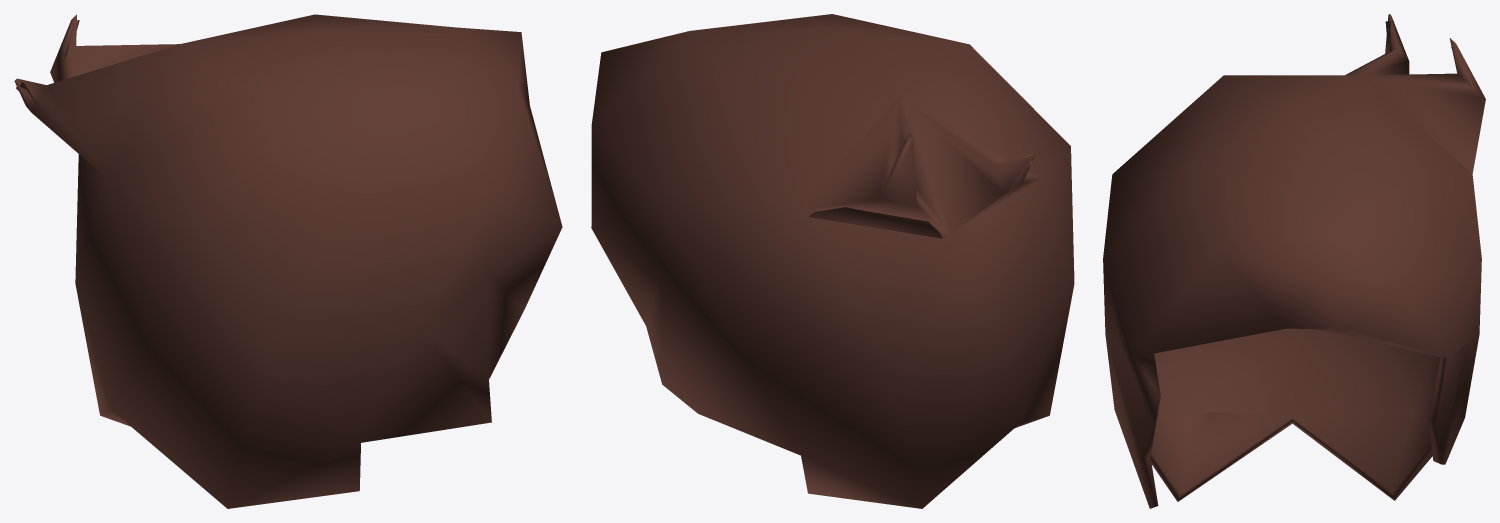
Rendered from EthanHair.glb.
3 renders of one model, left to right at view 1: azimuth 30°, elevation 25°; view 2: azimuth 150°, elevation 25°; view 3: azimuth 270°, elevation 25°, orthographic. The views are drawn at different scales.
Visible parts, largest first — view 1: EthanHair; view 2: EthanHair; view 3: EthanHair.
Boxes of the visible parts, x1=… form: EthanHair: x1=14, y1=14, x2=562, y2=508; EthanHair: x1=591, y1=14, x2=1074, y2=508; EthanHair: x1=1103, y1=14, x2=1485, y2=508.
Bounding box in the file's own units: 6.81 × 5.75 × 4.95.
